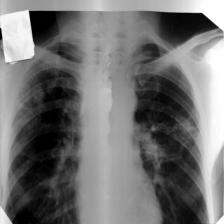tuberculosis: (1, 34, 215, 224)
